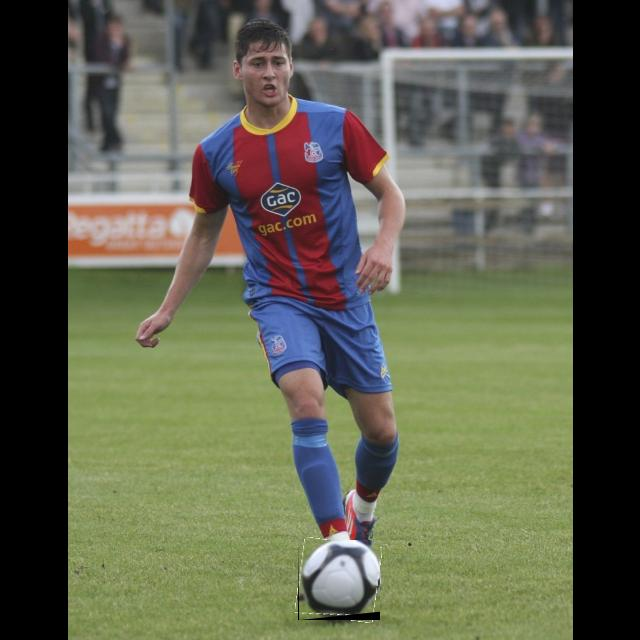Football: (298, 540, 380, 620)
